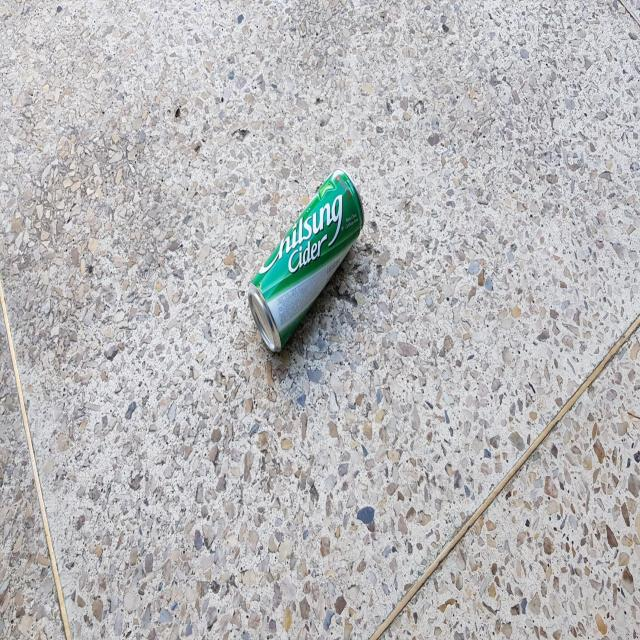can: (248, 168, 364, 351)
